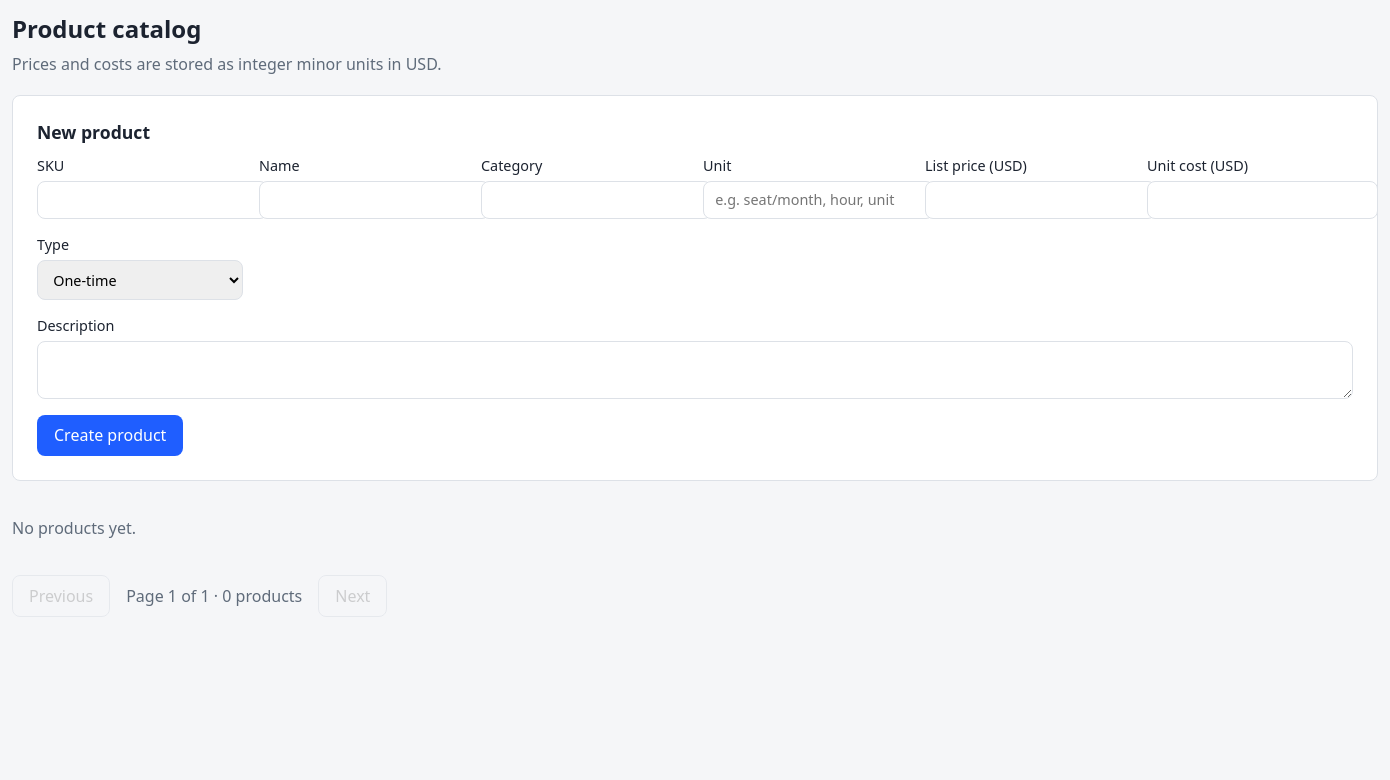
Scenario: ProductsPage › lets pricing managers create a product and posts integer minor units
The image size is (1390, 780).
Expected: the text "No products yet." is shown, [12,517,136,539]
Type "new-1" into the field labelled "SKU". click: (153, 200)
box: [37,181,268,219]
Type "Workshop" into the field labelled "Name". click: (375, 200)
box: [259,181,490,219]
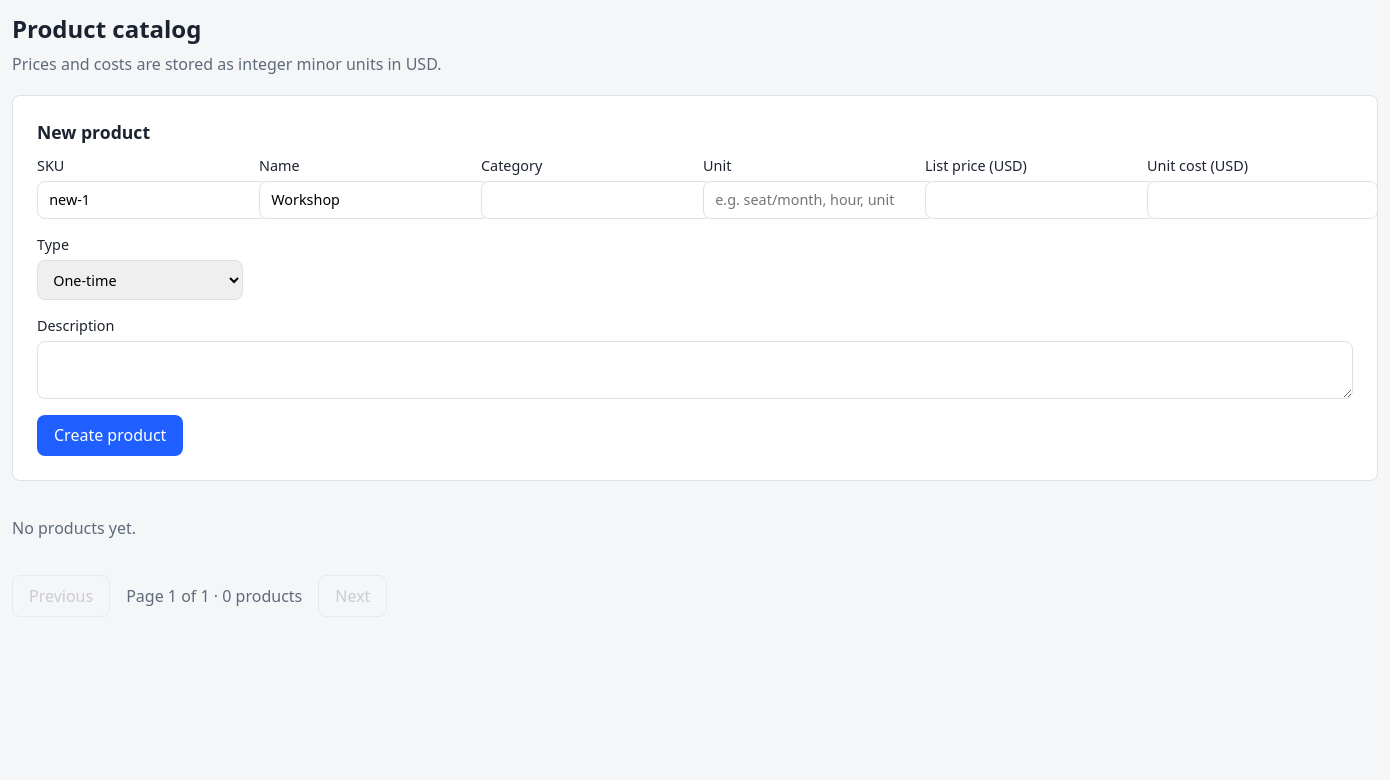
Type "Services" into the field labelled "Category". click: (597, 200)
box: [481,181,712,219]
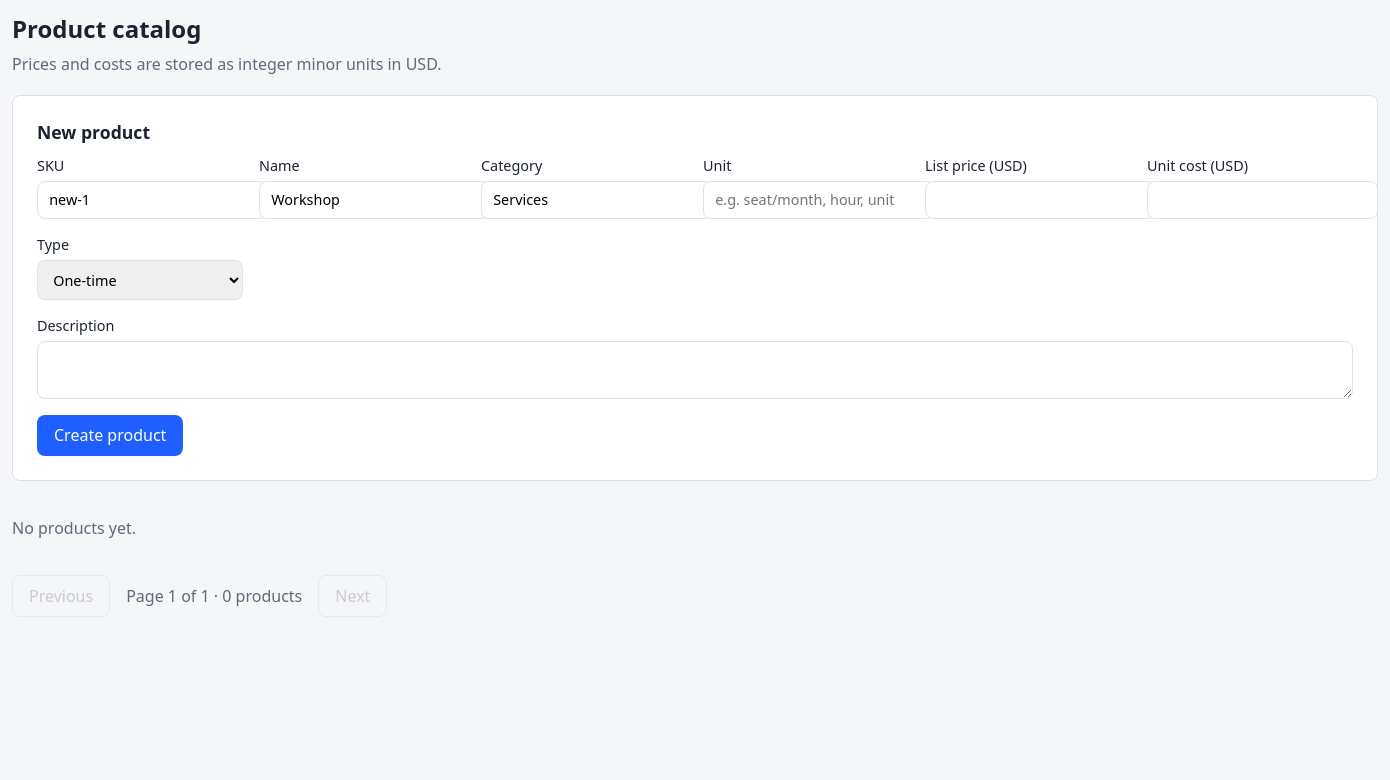
Type "session" into the field labelled "Unit". click: (819, 200)
box: [703,181,934,219]
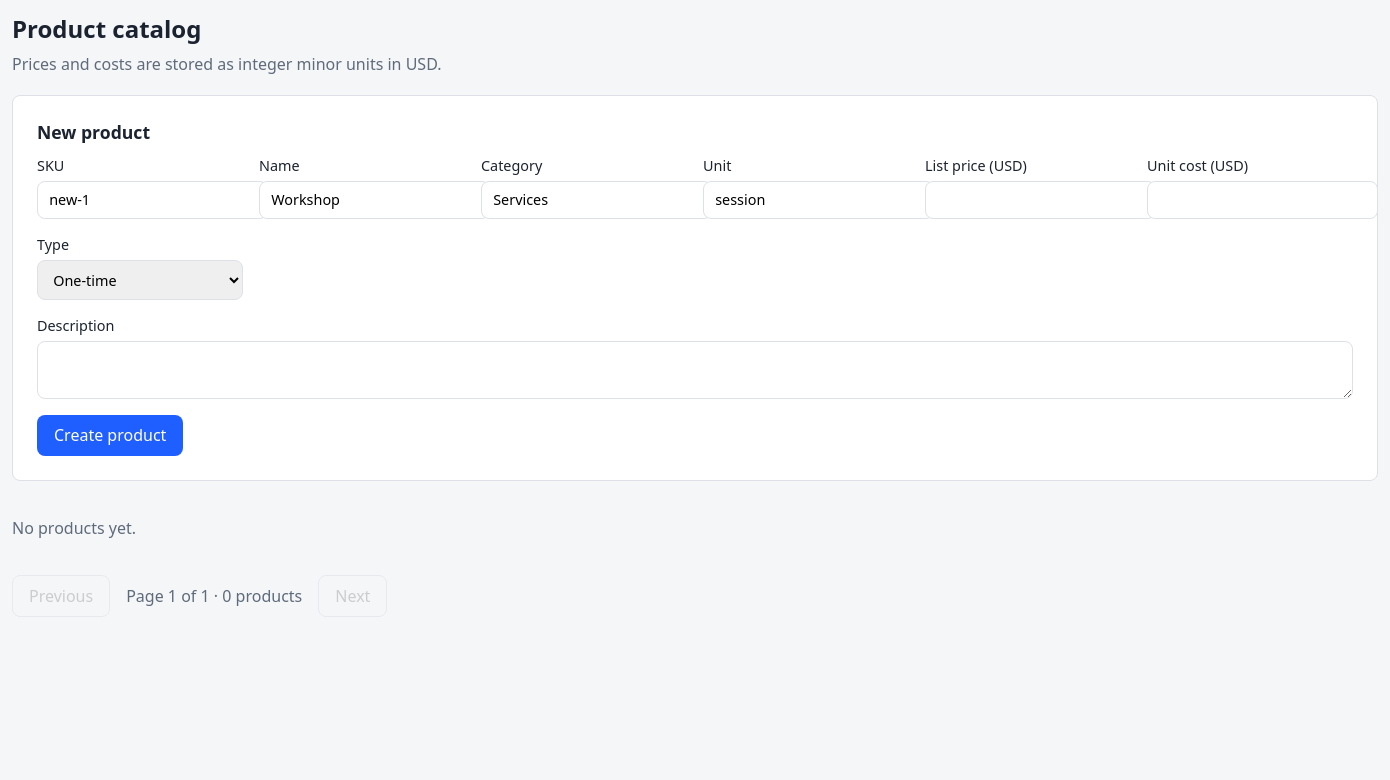
Type "1,250.10" into the field labelled "List price (USD)". click: (1041, 200)
box: [925,181,1156,219]
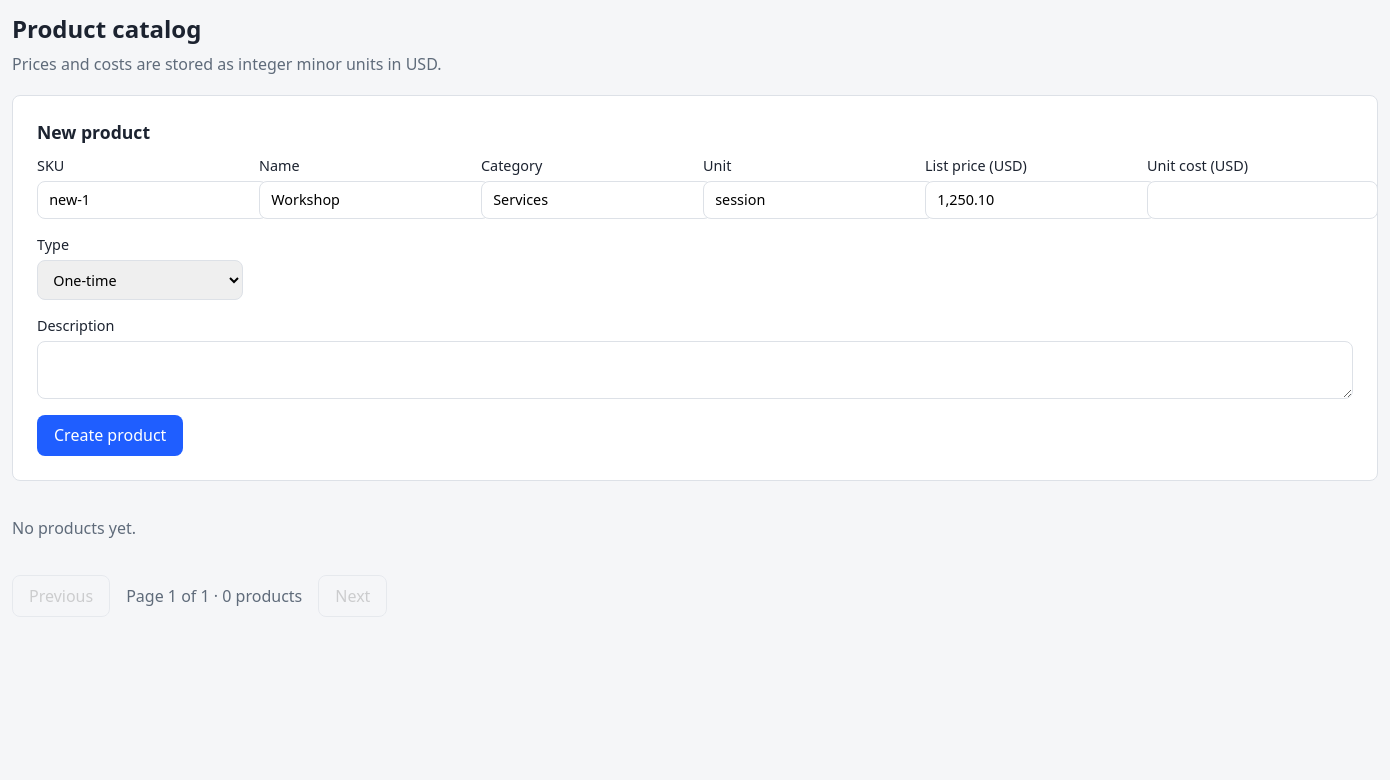
Type "800.05" into the field labelled "Unit cost (USD)". click: (1262, 200)
box: [1147,181,1378,219]
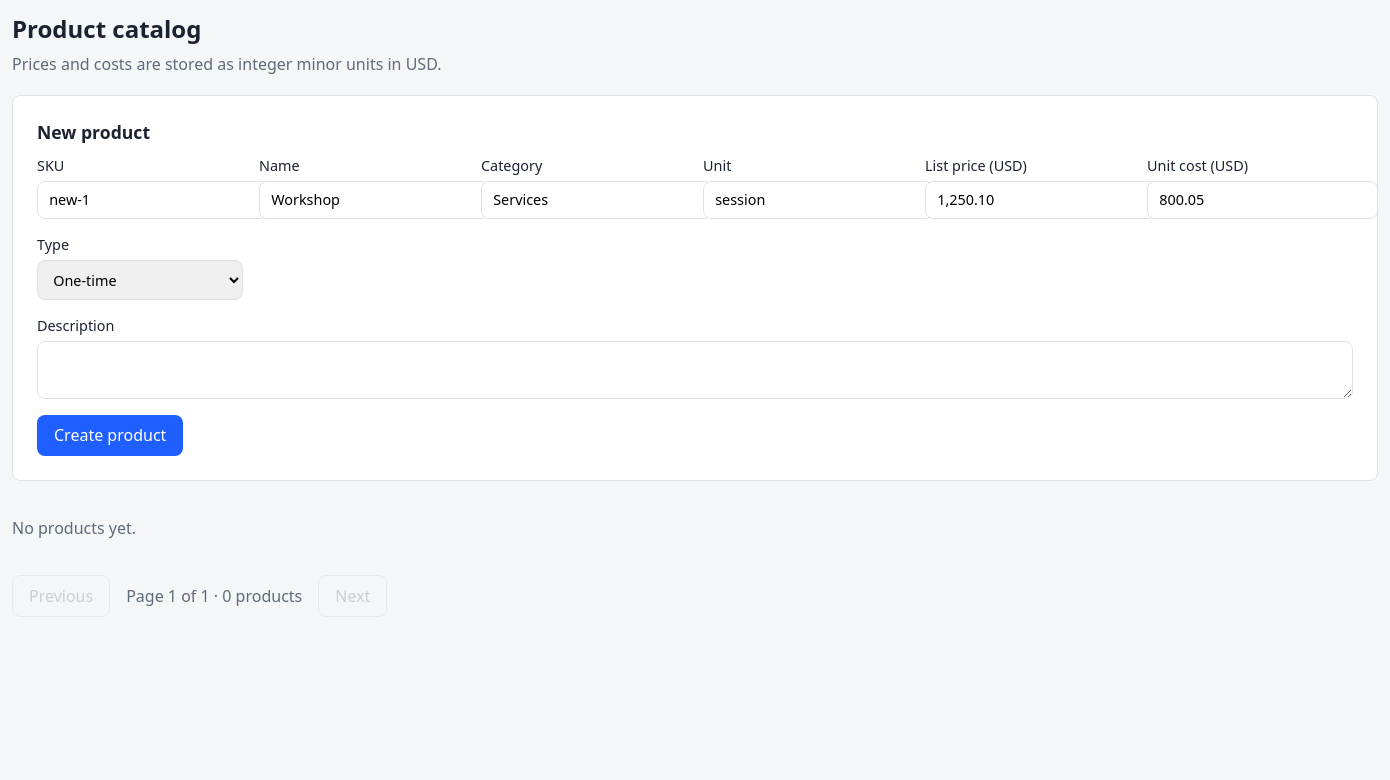
Click the button "Create product". click: (110, 435)
box: [37,415,183,456]
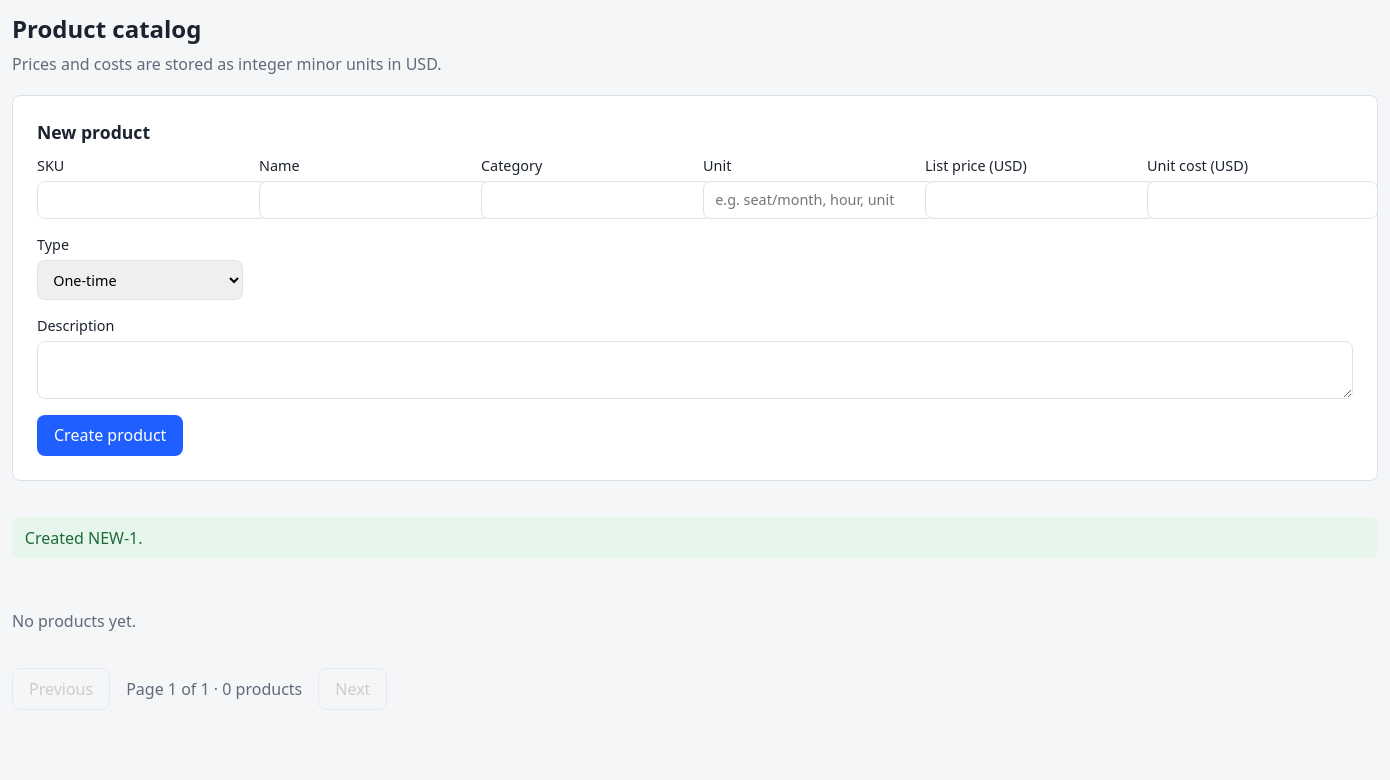
Result: the text "Created NEW-1." is shown at [12,517,1378,558]
